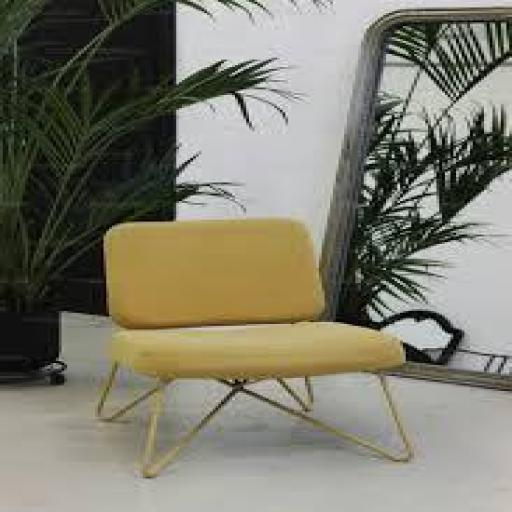chair: (92, 215, 426, 479)
